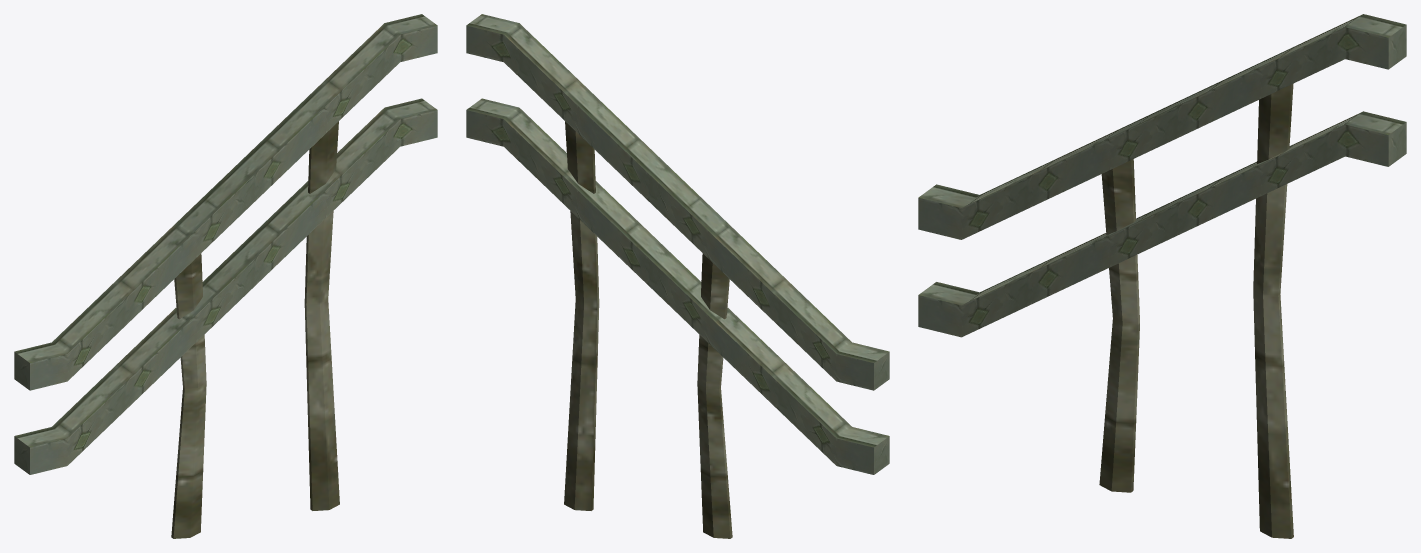
Rendered from fence-07.fbx.
The picture shows the model from 3 angles, left to right: view 1: azimuth 30°, elevation 25°; view 2: azimuth 150°, elevation 25°; view 3: azimuth 330°, elevation 25°; orthographic projection. The views are drawn at different scales.
Visible parts, largest first — view 1: Cube.253; view 2: Cube.253; view 3: Cube.253.
Part boxes in pixels (bbox=[...]): Cube.253: bbox=[14, 14, 437, 538]; Cube.253: bbox=[466, 14, 889, 538]; Cube.253: bbox=[918, 14, 1406, 538].
Bounding box in the file's own units: 1.79 × 1.94 × 0.12.
